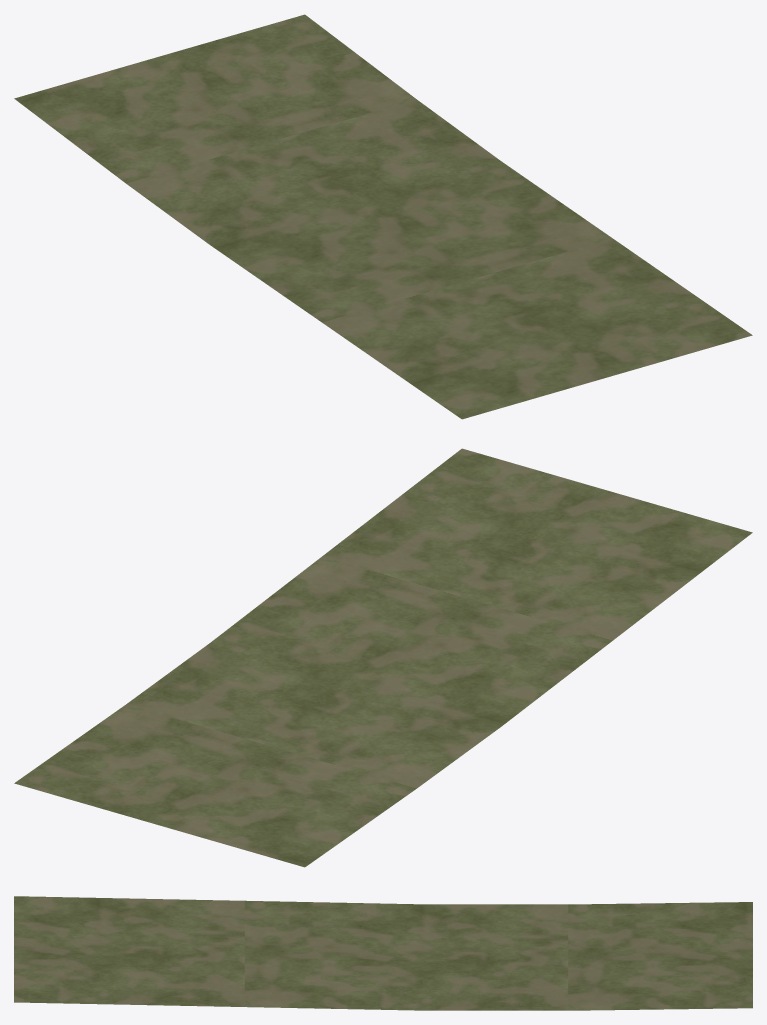
3 views of the same model, one above another, from view 1: azimuth 30°, elevation 25°; view 2: azimuth 150°, elevation 25°; view 3: azimuth 270°, elevation 25° (orthographic). The views are drawn at different scales.
Bounding box in the file's own units: 6 × 0.456 × 16.
Materials: 1 (1 with a texture image).
